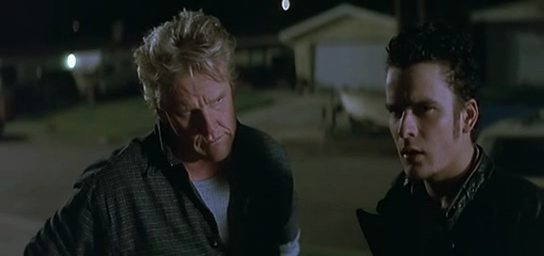face: (385, 79, 452, 182), (164, 74, 236, 162)
mcu: (1, 1, 544, 256)
person: (22, 8, 300, 256), (355, 28, 544, 256)
